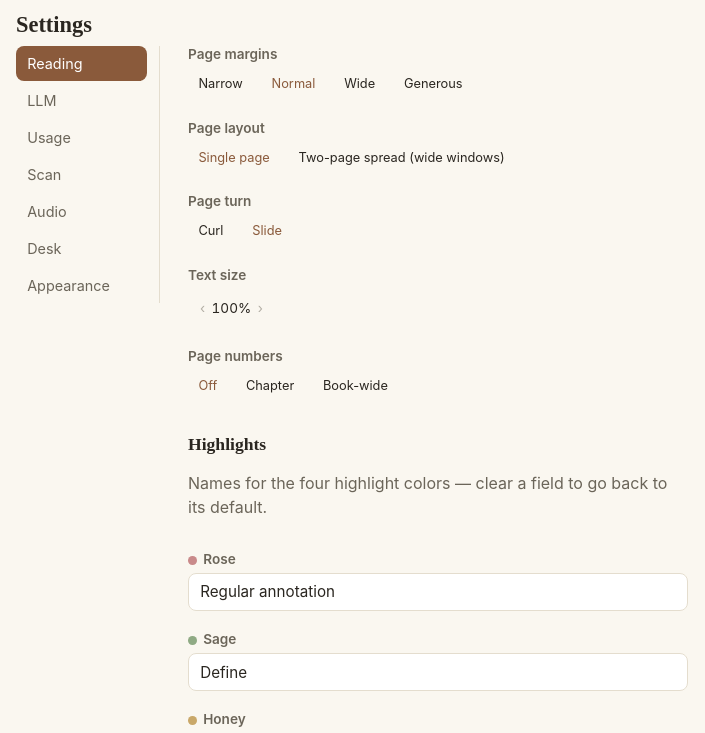
Test: SettingsPage binder › the Usage tab has no Save bar (read-only), unlike Reading/Scan/Desk
Click the tab "Usage".
click(82, 137)  # box [16,120,147,155]
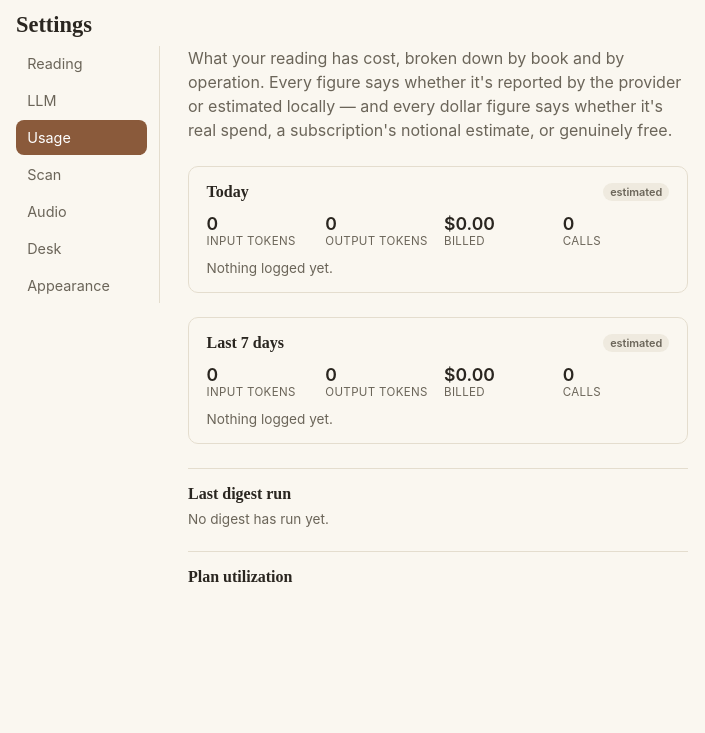
Now the heading "Today" is shown, box [207,183,249,201]
